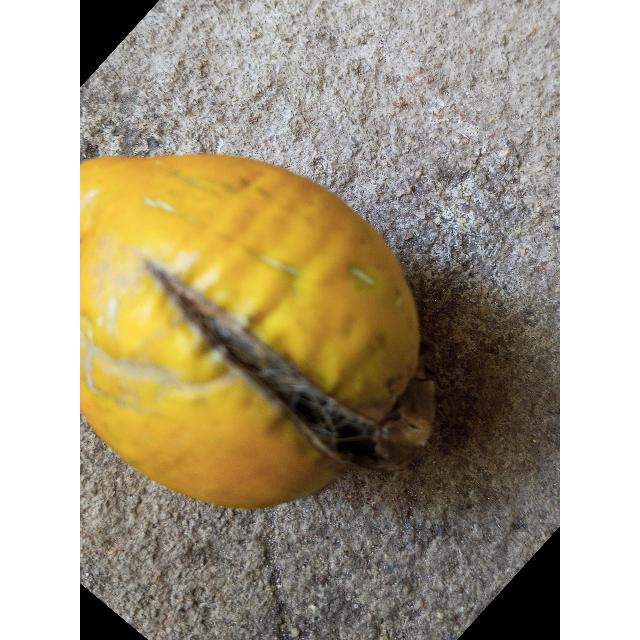damaged: (80, 155, 435, 508)
